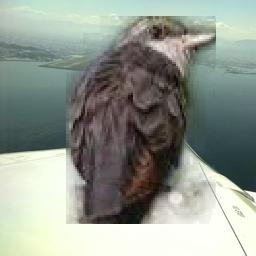Cuckoo: (66, 16, 216, 224)
